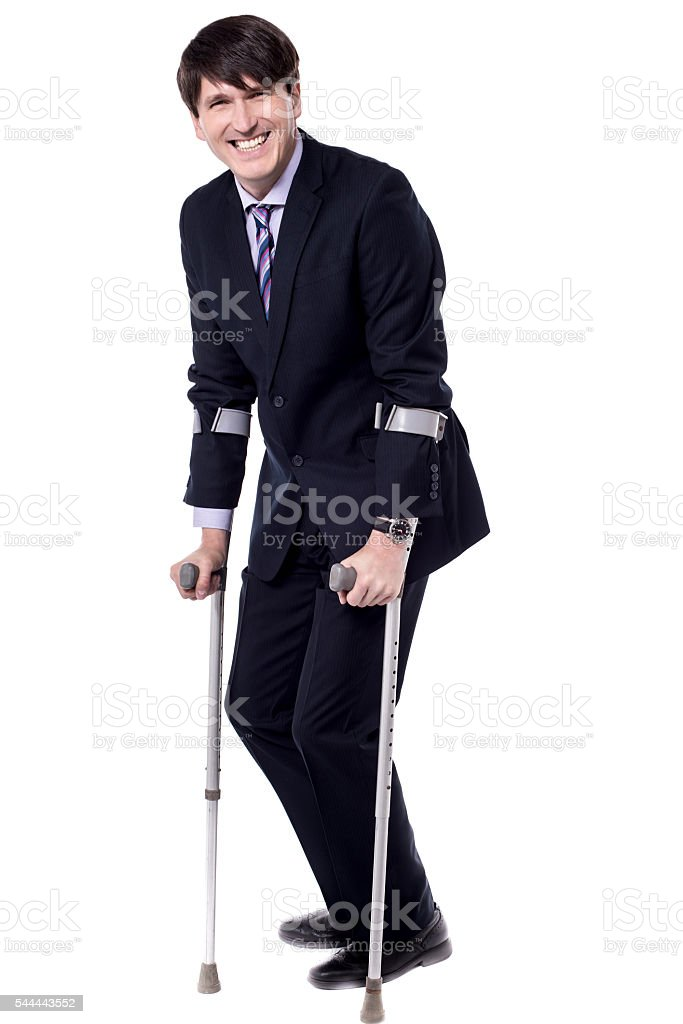crutches: (167, 16, 489, 1024)
